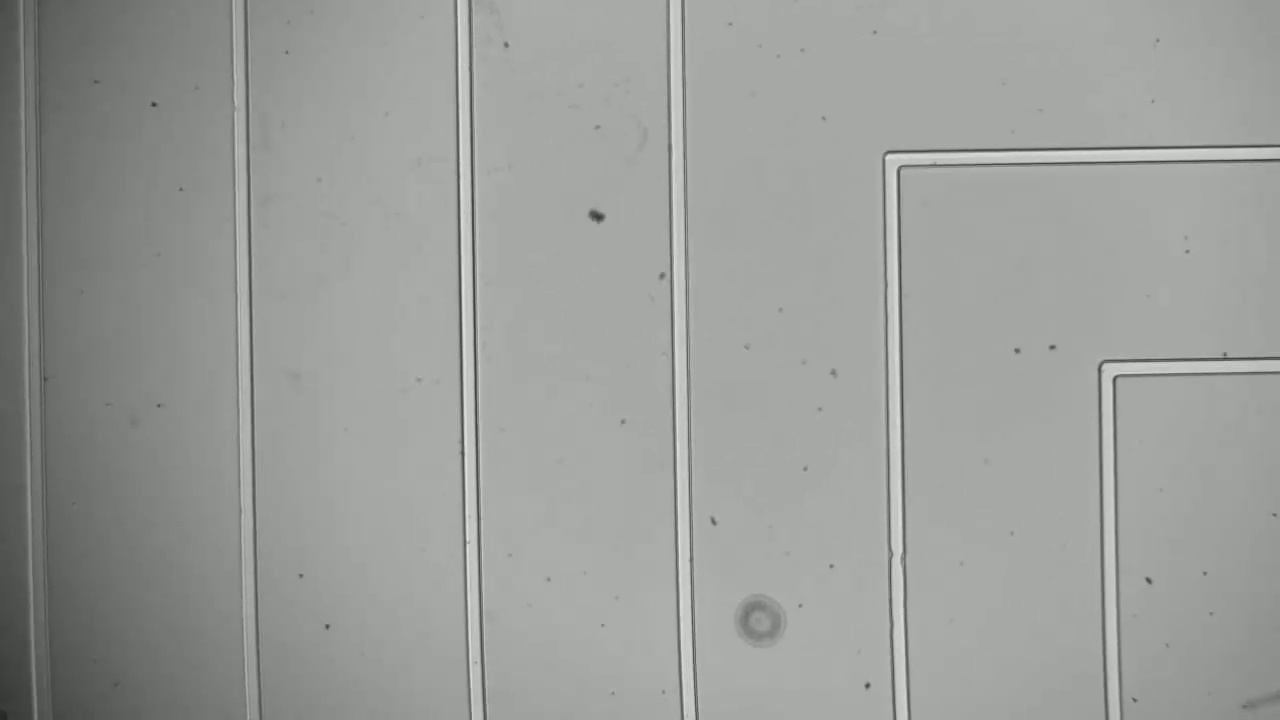edge_bite: (879, 546, 912, 575)
